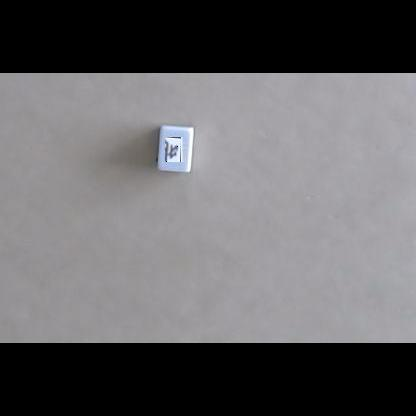4z: (166, 137, 186, 162)
